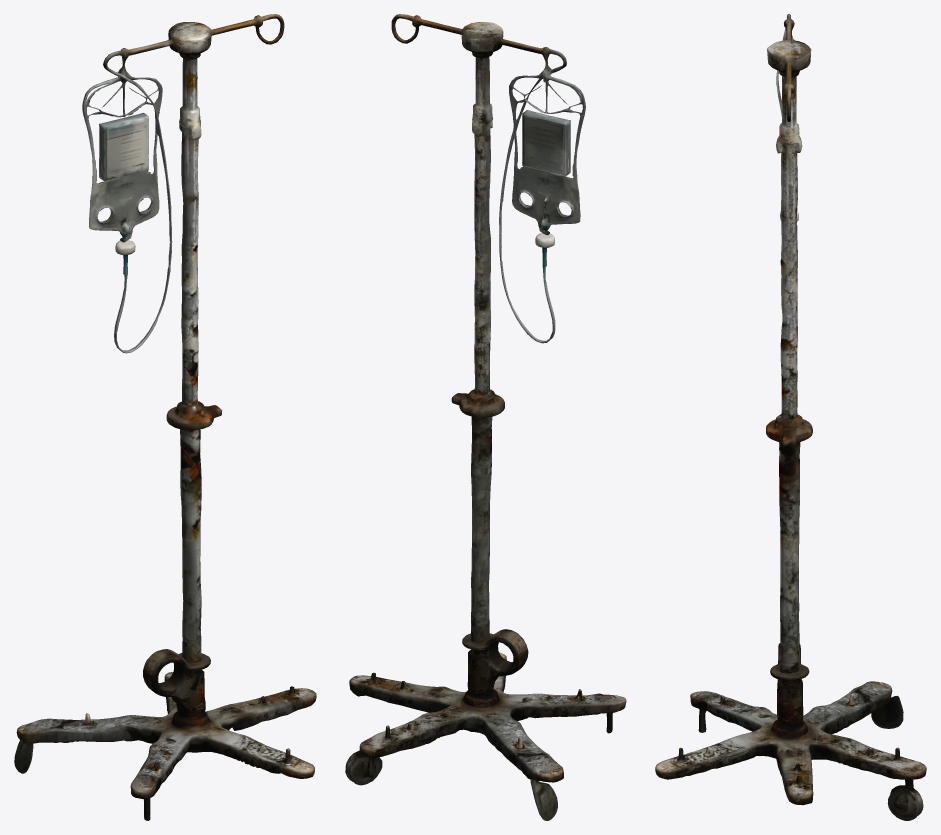
3 renders of one model, left to right at view 1: azimuth 30°, elevation 25°; view 2: azimuth 150°, elevation 25°; view 3: azimuth 270°, elevation 25°, orthographic. The views are drawn at different scales.
Visible parts, largest first — view 1: tripo_node_aa5ebc52-348a-47b0-b790-718b31e7f944; view 2: tripo_node_aa5ebc52-348a-47b0-b790-718b31e7f944; view 3: tripo_node_aa5ebc52-348a-47b0-b790-718b31e7f944.
Part boxes in pixels (left/top/right/bottom): tripo_node_aa5ebc52-348a-47b0-b790-718b31e7f944: left=14, top=14, right=316, bottom=820; tripo_node_aa5ebc52-348a-47b0-b790-718b31e7f944: left=345, top=14, right=626, bottom=820; tripo_node_aa5ebc52-348a-47b0-b790-718b31e7f944: left=655, top=14, right=926, bottom=820.
Size of the model in its own units: 0.3568 by 0.9999 by 0.332.
1 material, 1 textured.
